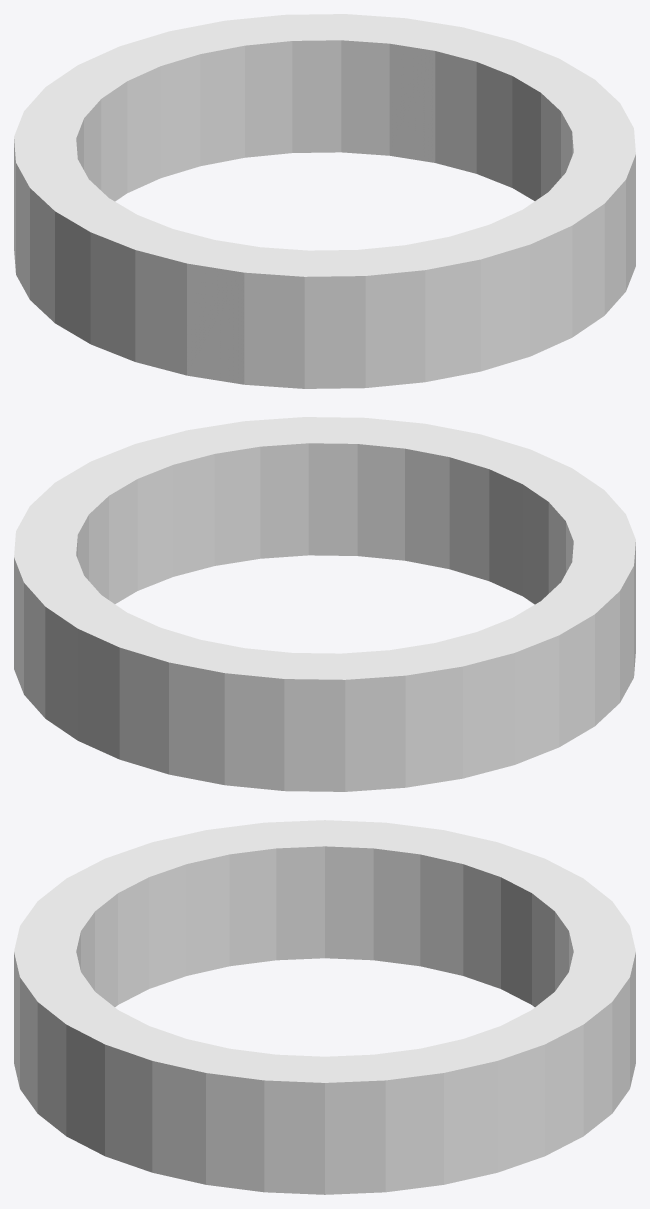
The model's file is target.blue.gltf.
3 renders of one model, top to bottom at view 1: azimuth 30°, elevation 25°; view 2: azimuth 150°, elevation 25°; view 3: azimuth 270°, elevation 25°, orthographic.
Parts seen in each view (by area): view 1: target.blue; view 2: target.blue; view 3: target.blue.
Boxes of the visible parts, x1,y1,x2,y2 form: target.blue: (14, 14, 635, 388); target.blue: (14, 417, 635, 791); target.blue: (14, 820, 635, 1194).
Bounding box in the file's own units: 2 × 0.397 × 2.
1 material, 1 textured.
